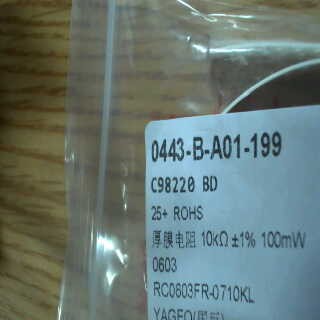10kR: (197, 224, 234, 251)
